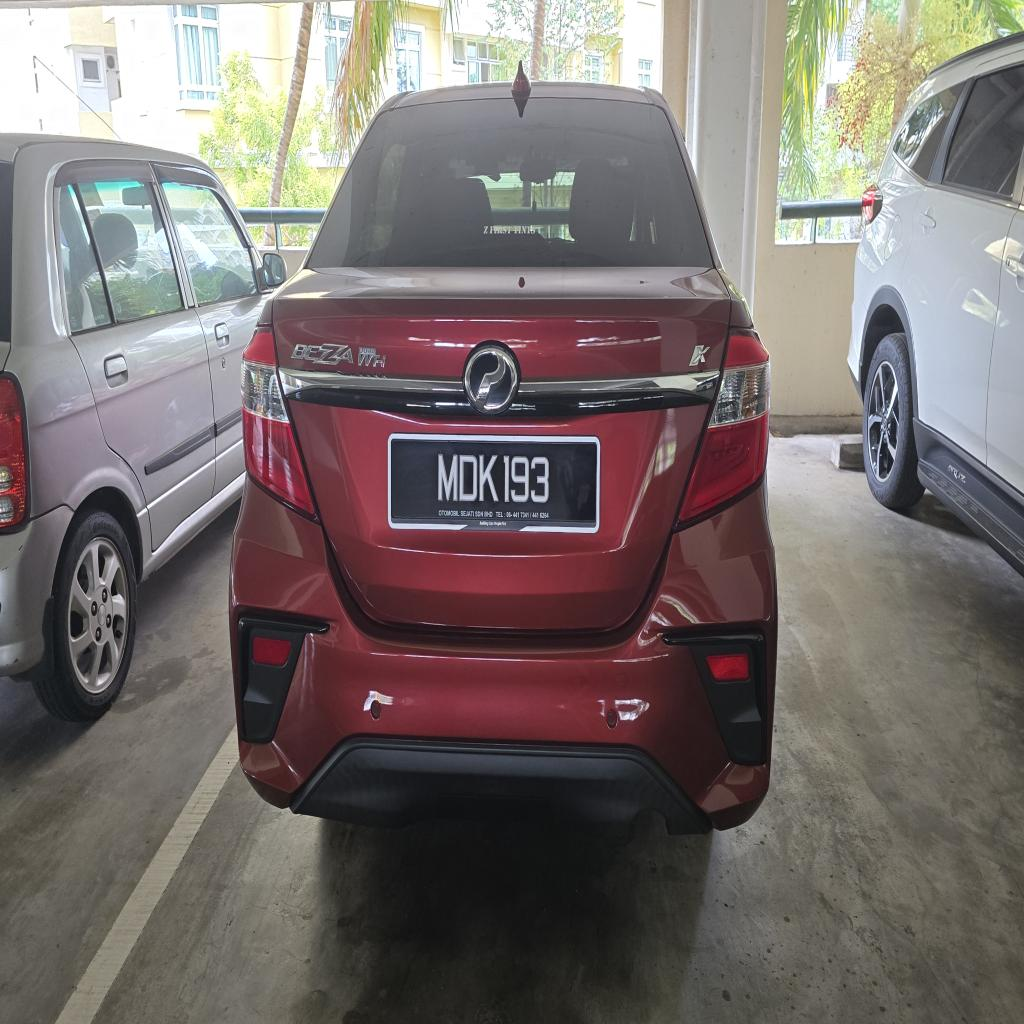car: (230, 84, 777, 833)
car plate: (389, 434, 599, 532)
